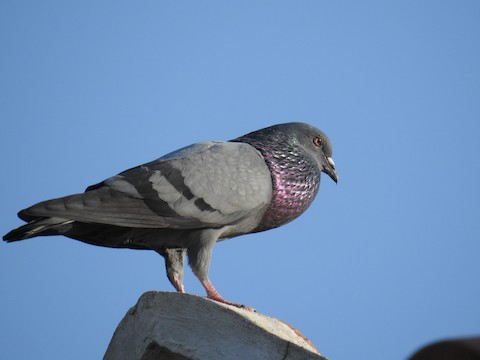pigeon: (8, 114, 342, 314)
